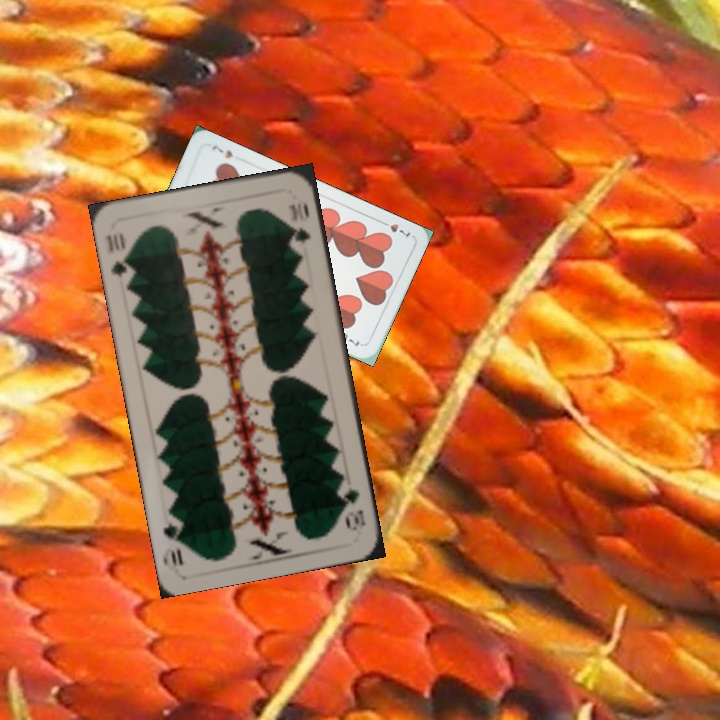G10: (102, 228, 136, 283), (338, 483, 368, 534)
H7: (376, 216, 413, 239)
